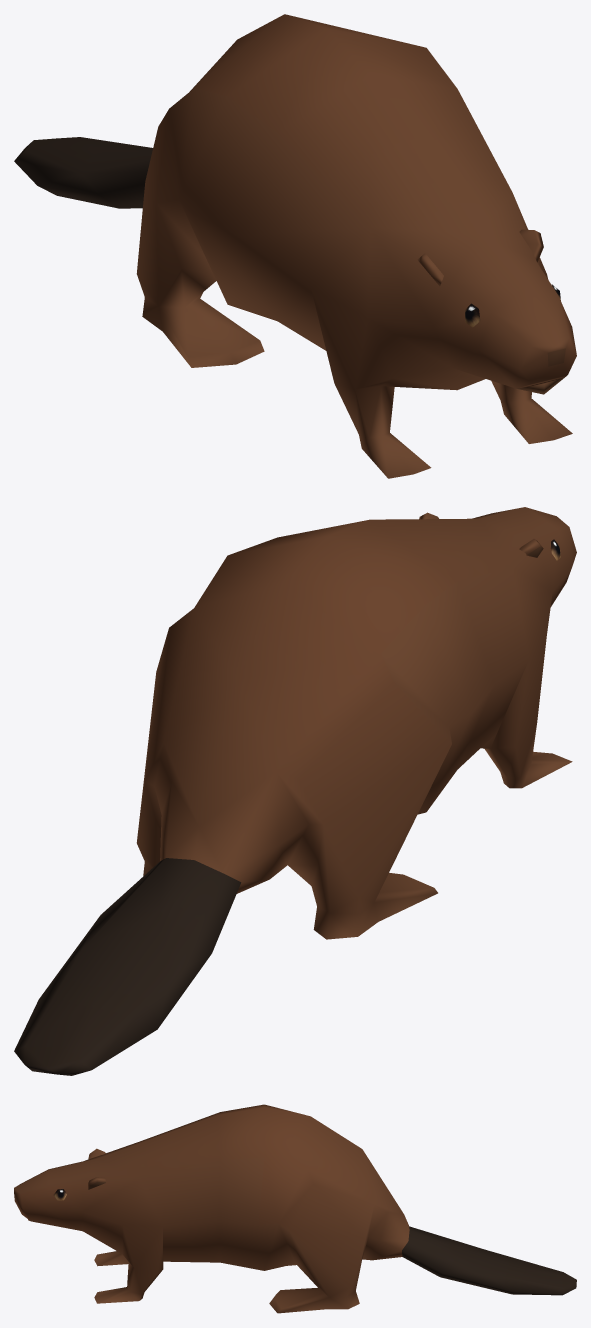
Rendered from Beaver01.glb.
3 views of the same model, one above another, from view 1: azimuth 30°, elevation 25°; view 2: azimuth 150°, elevation 25°; view 3: azimuth 270°, elevation 25° (orthographic). The views are drawn at different scales.
Parts seen in each view (by area): view 1: Beaver01; view 2: Beaver01; view 3: Beaver01.
Part boxes in pixels (x1,y1,x2,y2): Beaver01: (14,14,576,478); Beaver01: (14,507,576,1075); Beaver01: (14,1104,576,1313).
Size of what is drawn, in the model's own units: 0.5062 by 0.5453 by 1.53.
1 material, 1 textured.
